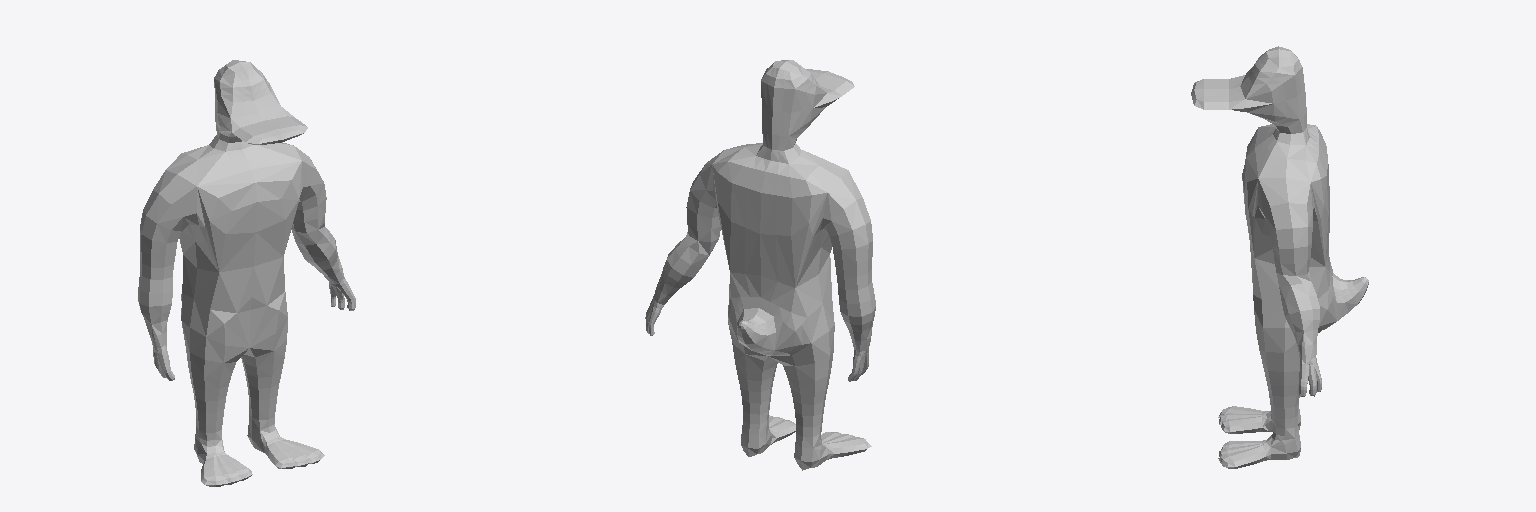
Rendered from canard_000024.obj.
3 renders of one model, left to right at view 1: azimuth 30°, elevation 25°; view 2: azimuth 150°, elevation 25°; view 3: azimuth 270°, elevation 25°, orthographic.
Visible parts, largest first — view 1: Cube; view 2: Cube; view 3: Cube.
Boxes of the visible parts, <box> form: Cube: <box>138,60,355,486</box>; Cube: <box>645,60,875,470</box>; Cube: <box>1191,46,1368,468</box>.
Bounding box in the file's own units: 1.63 × 2.8 × 1.14.